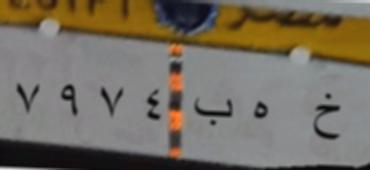4: (142, 83, 164, 126)
7: (10, 73, 44, 118), (94, 83, 126, 126)
9: (58, 78, 82, 123)
baa: (190, 89, 236, 135)
haa: (248, 94, 272, 129)
khaa: (308, 84, 342, 146)
